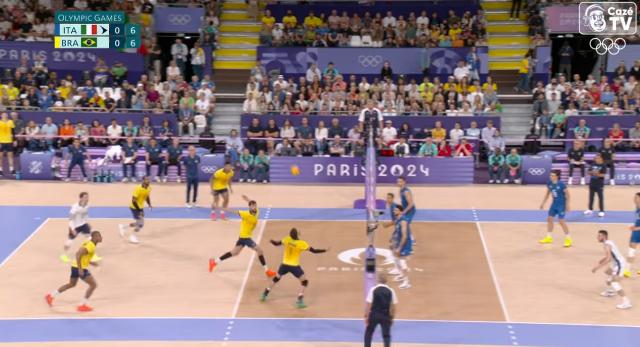Levantador: (274, 229, 308, 310), (544, 170, 570, 248)
Libero: (596, 228, 634, 308), (68, 191, 90, 241)
bola: (291, 166, 301, 176)
